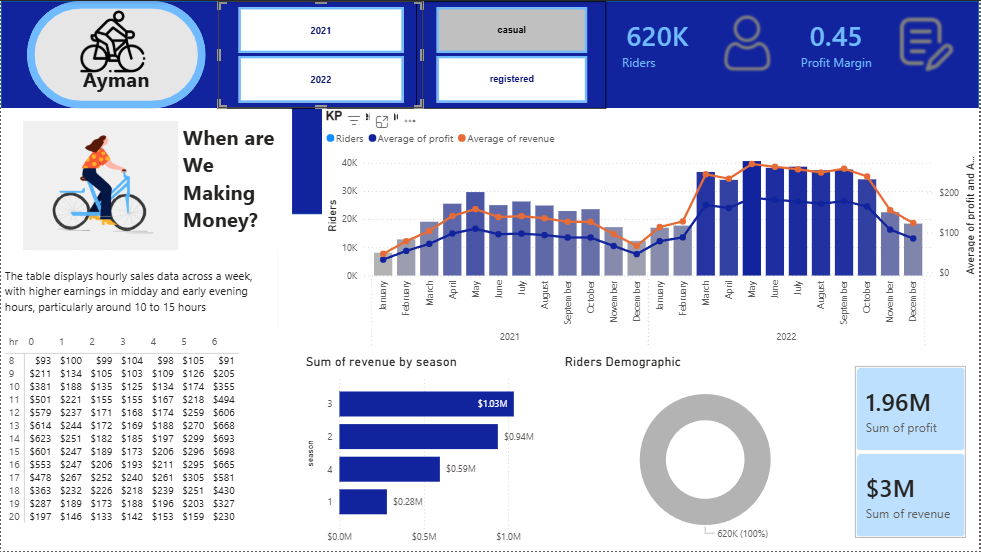

The dashboard page shown, as its layout file describes it:
{"tool":"powerbi","page":{"name":"Page 1","canvas":[1280,720],"ordinal":0},"visuals":[{"type":"shape","box":[0,0,1280,279.4],"z":0},{"type":"cardVisual","fields":{"Data":["Sum(Query1.revenue)"]},"box":[0,140.5,381,579],"z":1000},{"type":"cardVisual","fields":{"Data":["Sum(Query1.revenue)"]},"box":[0,140.5,296.3,203.2],"z":2000},{"type":"cardVisual","fields":{"Data":["Sum(Query1.revenue)"]},"box":[492.7,404.7,787.3,314.9],"z":3000},{"type":"cardVisual","fields":{"Data":["Sum(Query1.revenue)"]},"box":[419.9,140.5,860.1,264.1],"z":4000},{"type":"pivotTable","fields":{"Rows":["Query1.hr"],"Values":["Avg(Query1.revenue)"],"Columns":["Query1.weekday"]},"box":[0,430.1,381,289.5],"z":5000},{"type":"textbox","box":[233.7,154.1,147.3,171],"z":6000},{"type":"textbox","box":[0,343.7,336.9,86.3],"z":7000},{"type":"lineClusteredColumnComboChart","title":"KPI over time","fields":{"Y":["Sum(Query1.riders)"],"Category":["Query1.dteday.Variation.Date Hierarchy.Year","Query1.dteday.Variation.Date Hierarchy.Month","Query1.dteday.Variation.Date Hierarchy.Day"],"Y2":["Avg(Query1.profit)","Avg(Query1.revenue)"]},"box":[419.9,140.5,860.1,321.7],"z":8000},{"type":"clusteredBarChart","fields":{"Category":["Query1.season"],"Y":["Sum(Query1.revenue)"]},"box":[394.5,462.2,338.6,257.4],"z":9000},{"type":"donutChart","title":"Riders Demographic","fields":{"Y":["Sum(Query1.riders)"],"Category":["Query1.rider_type"]},"box":[733.1,462.2,377.6,257.4],"z":10000},{"type":"cardVisual","title":"KPI over time","fields":{"Data":["Sum(Query1.profit)","Sum(Query1.revenue)"]},"box":[1100.5,460.5,179.5,259],"z":11000},{"type":"cardVisual","fields":{"Data":["Sum(Query1.riders)","Query1.Profit Margin"]},"box":[792.4,0,487.6,110.1],"z":12000},{"type":"shape","box":[33.9,0,233.7,140.5],"z":13000},{"type":"image","box":[59.3,10.2,174.4,84.7],"z":14000},{"type":"slicer","fields":{"Values":["Query1.rider_type"]},"box":[543.5,0,248.9,140.5],"z":15000},{"type":"slicer","fields":{"Values":["Query1.Year"]},"box":[284.4,0,267.5,140.5],"z":16000}]}

Visuals, with their boxes in screenshot pixels (x1, y1, x2, y2), scaled from the page's 1280x720 canvas onto the 981x552 screenshot:
shape: 0,0,980,214
cardVisual - Sum(Query1.revenue): 0,108,292,551
cardVisual - Sum(Query1.revenue): 0,108,227,264
cardVisual - Sum(Query1.revenue): 378,310,980,551
cardVisual - Sum(Query1.revenue): 322,108,980,310
pivotTable - Query1.hr x Avg(Query1.revenue): 0,330,292,551
textbox: 179,118,292,249
textbox: 0,264,258,330
"KPI over time" lineClusteredColumnComboChart: 322,108,980,354
clusteredBarChart - Query1.season x Sum(Query1.revenue): 302,354,562,551
"Riders Demographic" donutChart: 562,354,851,551
"KPI over time" cardVisual: 843,353,980,551
cardVisual - Sum(Query1.riders) x Query1.Profit Margin: 607,0,980,84
shape: 26,0,205,108
image: 45,8,179,73
slicer - Query1.rider_type: 417,0,607,108
slicer - Query1.Year: 218,0,423,108
